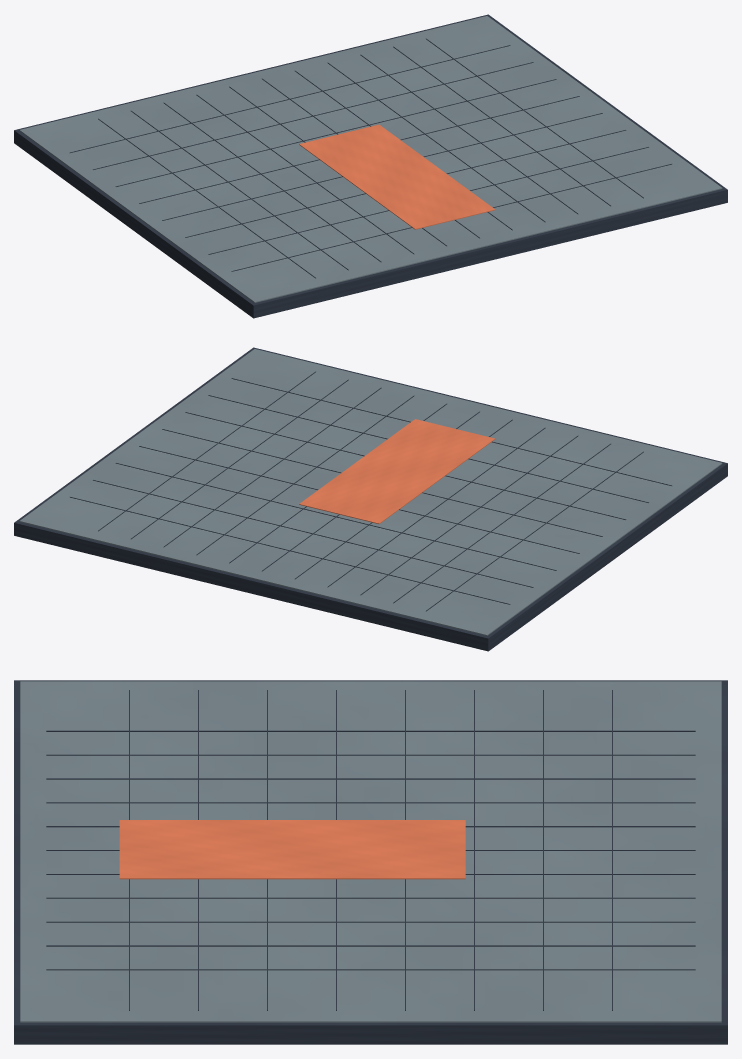
The model's file is atlas100-s023-a07.glb.
The picture shows the model from 3 angles, top to bottom: view 1: azimuth 30°, elevation 25°; view 2: azimuth 150°, elevation 25°; view 3: azimuth 270°, elevation 25°; orthographic projection. The views are drawn at different scales.
Parts seen in each view (by area): view 1: atlas100-s023-a07:part-001, atlas100-s023-a07:part-000, atlas100-s023-a07:part-021, atlas100-s023-a07:part-013, atlas100-s023-a07:part-015, atlas100-s023-a07:part-014, atlas100-s023-a07:part-020, atlas100-s023-a07:part-018, atlas100-s023-a07:part-019, atlas100-s023-a07:part-017, atlas100-s023-a07:part-016; view 2: atlas100-s023-a07:part-001, atlas100-s023-a07:part-000, atlas100-s023-a07:part-021, atlas100-s023-a07:part-013, atlas100-s023-a07:part-014, atlas100-s023-a07:part-015, atlas100-s023-a07:part-020, atlas100-s023-a07:part-019, atlas100-s023-a07:part-018, atlas100-s023-a07:part-016, atlas100-s023-a07:part-017; view 3: atlas100-s023-a07:part-001, atlas100-s023-a07:part-000, atlas100-s023-a07:part-021, atlas100-s023-a07:part-004, atlas100-s023-a07:part-010, atlas100-s023-a07:part-011, atlas100-s023-a07:part-012, atlas100-s023-a07:part-005, atlas100-s023-a07:part-009, atlas100-s023-a07:part-003, atlas100-s023-a07:part-002, atlas100-s023-a07:part-006.
Boxes of the visible parts, x1,y1,x2,y2 form: atlas100-s023-a07:part-001: [19, 16, 722, 302]; atlas100-s023-a07:part-000: [14, 14, 727, 318]; atlas100-s023-a07:part-021: [299, 124, 495, 229]; atlas100-s023-a07:part-013: [70, 45, 510, 152]; atlas100-s023-a07:part-015: [115, 79, 556, 186]; atlas100-s023-a07:part-014: [93, 62, 533, 169]; atlas100-s023-a07:part-020: [231, 164, 671, 271]; atlas100-s023-a07:part-018: [185, 130, 626, 237]; atlas100-s023-a07:part-019: [208, 147, 648, 254]; atlas100-s023-a07:part-017: [162, 113, 602, 220]; atlas100-s023-a07:part-016: [139, 96, 579, 203]; atlas100-s023-a07:part-001: [19, 349, 722, 635]; atlas100-s023-a07:part-000: [14, 347, 727, 651]; atlas100-s023-a07:part-021: [299, 419, 494, 523]; atlas100-s023-a07:part-013: [70, 497, 510, 604]; atlas100-s023-a07:part-014: [93, 480, 533, 587]; atlas100-s023-a07:part-015: [115, 463, 556, 570]; atlas100-s023-a07:part-020: [231, 378, 671, 485]; atlas100-s023-a07:part-019: [208, 395, 648, 502]; atlas100-s023-a07:part-018: [185, 412, 626, 519]; atlas100-s023-a07:part-016: [139, 446, 579, 553]; atlas100-s023-a07:part-017: [162, 429, 602, 536]; atlas100-s023-a07:part-001: [20, 681, 721, 1022]; atlas100-s023-a07:part-000: [14, 680, 727, 1044]; atlas100-s023-a07:part-021: [119, 820, 465, 879]; atlas100-s023-a07:part-004: [46, 778, 695, 779]; atlas100-s023-a07:part-010: [46, 921, 695, 922]; atlas100-s023-a07:part-011: [46, 945, 695, 946]; atlas100-s023-a07:part-012: [46, 969, 695, 970]; atlas100-s023-a07:part-005: [46, 802, 695, 803]; atlas100-s023-a07:part-009: [46, 897, 695, 898]; atlas100-s023-a07:part-003: [46, 754, 695, 755]; atlas100-s023-a07:part-002: [46, 730, 695, 731]; atlas100-s023-a07:part-006: [46, 826, 695, 827].
Bounding box in the file's own units: 13.02 × 0.404 × 11.39.
Materials: 3 (3 with a texture image).
